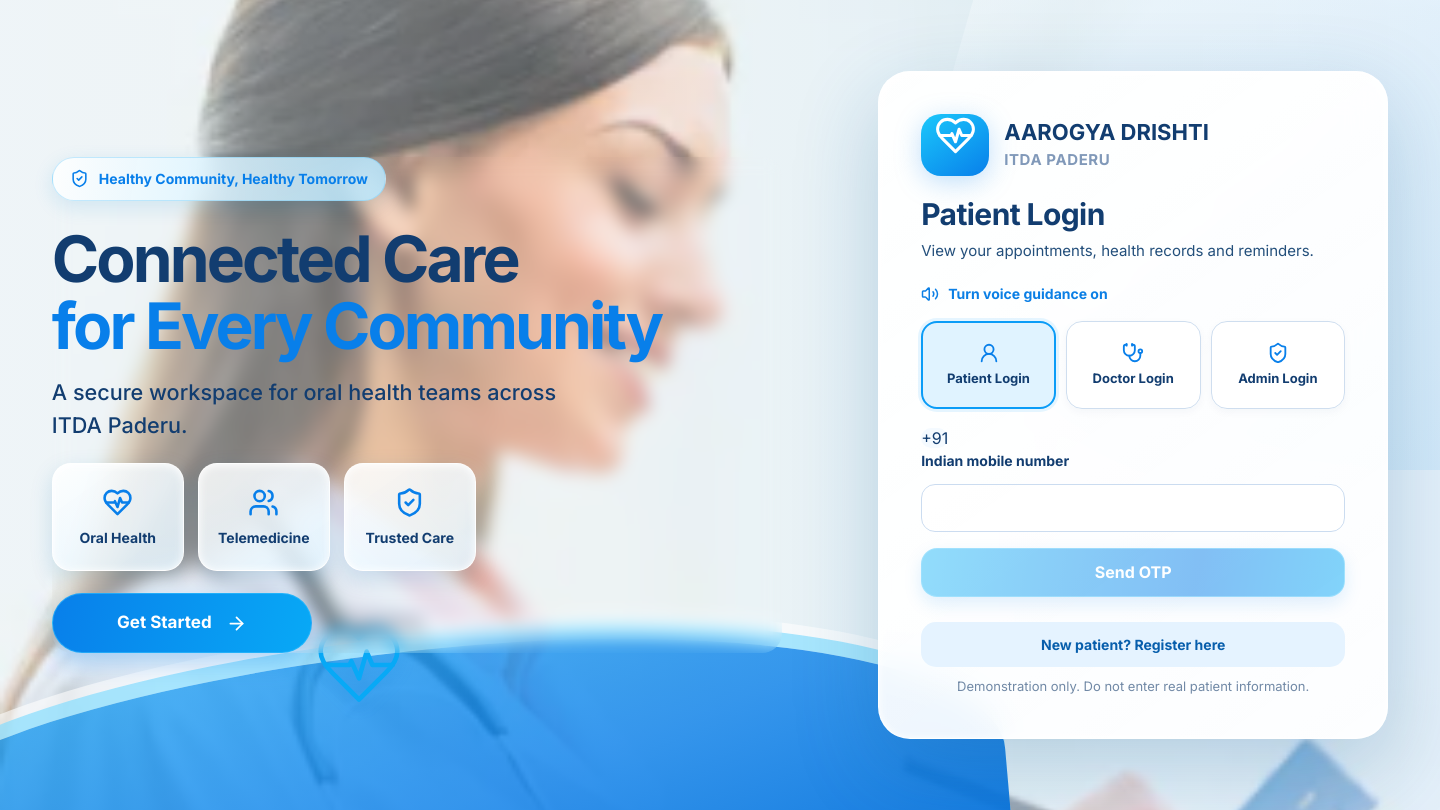
Test case: role-based login selection › shows a verification-code rate-limit message for patient OTP requests
Type "9876543210" into the field labelled "Indian mobile number" at (1133, 508), box [921,484,1345,532]
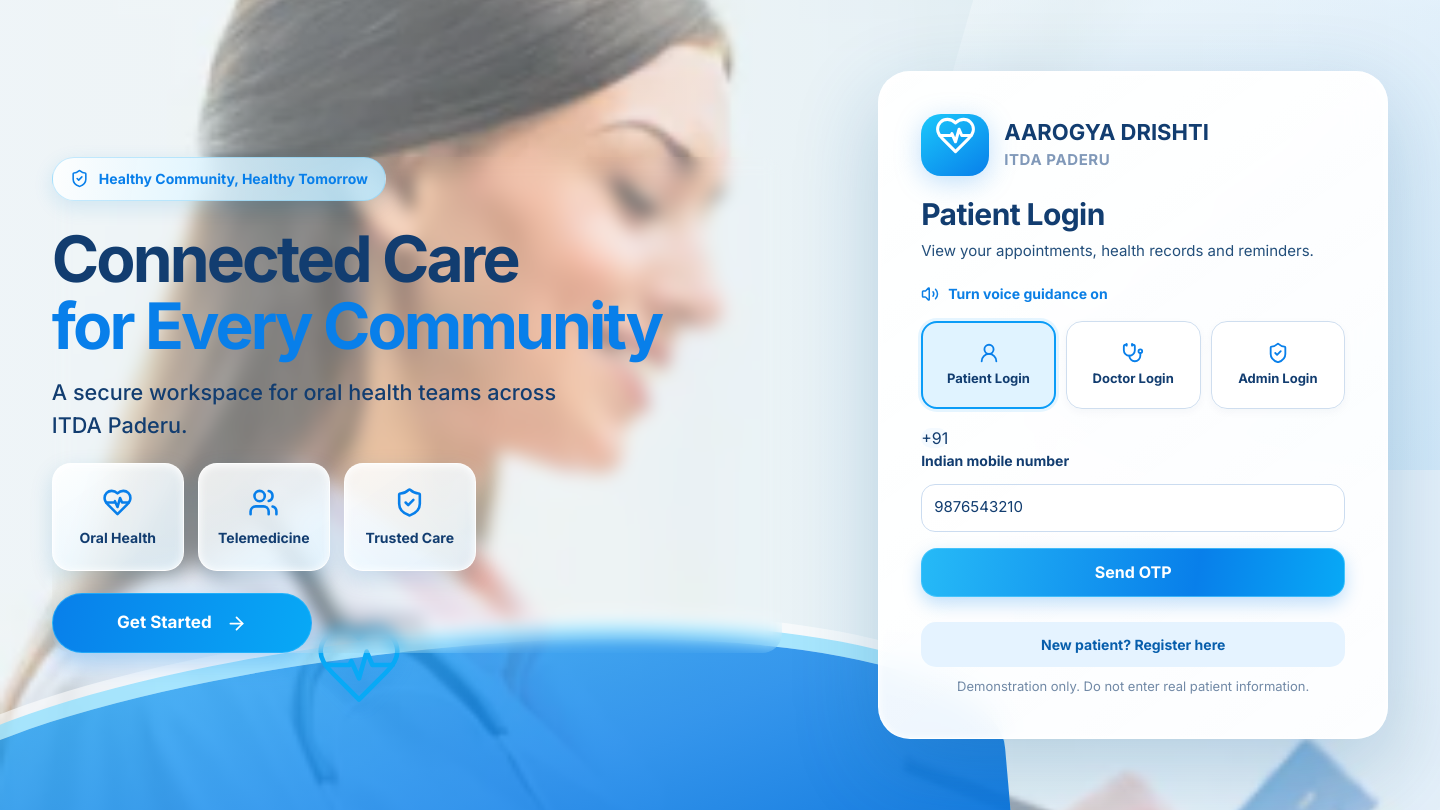
Click the button "Send OTP" at (1133, 572), box [921,548,1345,596]
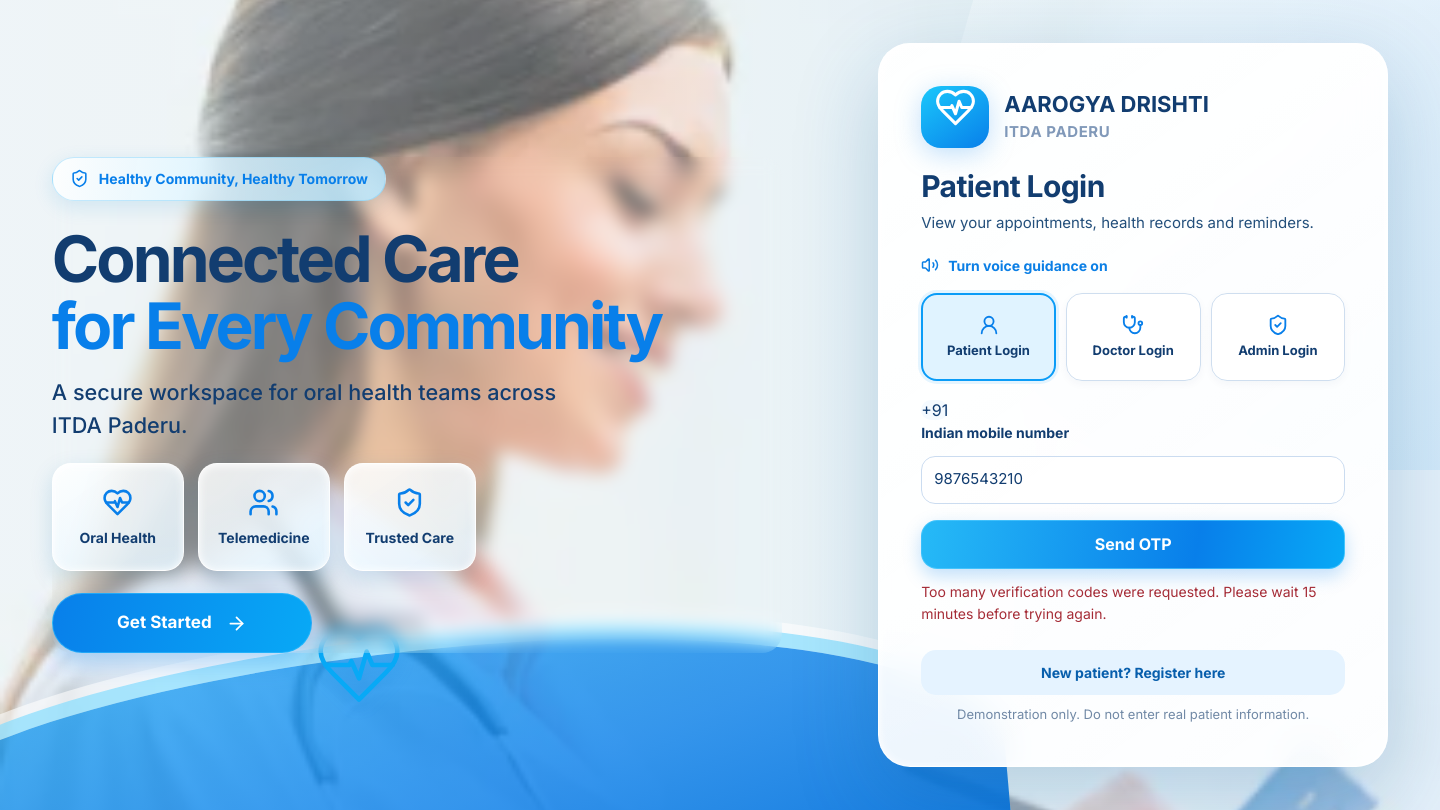
Check: the message shows "Too many verification codes were requested. Please wait 15 minutes before trying again.", box [921,583,1316,622]
